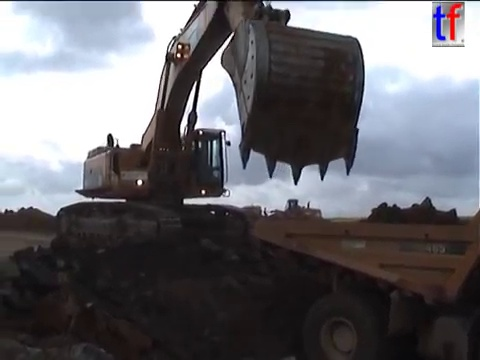excavator: (51, 1, 369, 253)
truck: (244, 207, 480, 360)
wheel loader: (256, 196, 325, 230)
